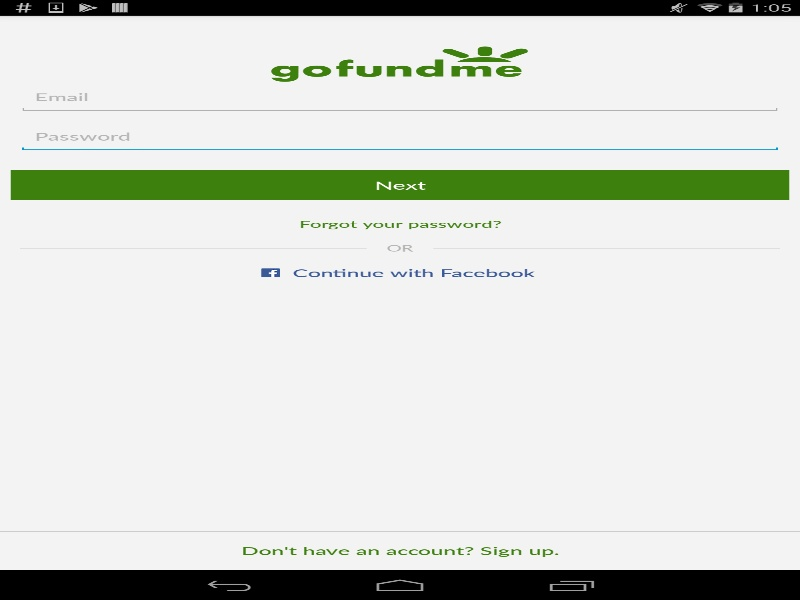Button: (0, 531, 800, 570), (10, 170, 789, 200), (250, 262, 549, 283)
Input: (17, 81, 782, 113), (17, 121, 782, 152)
